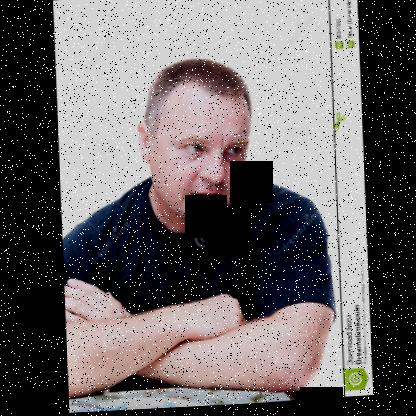Male: (134, 72, 254, 228)
